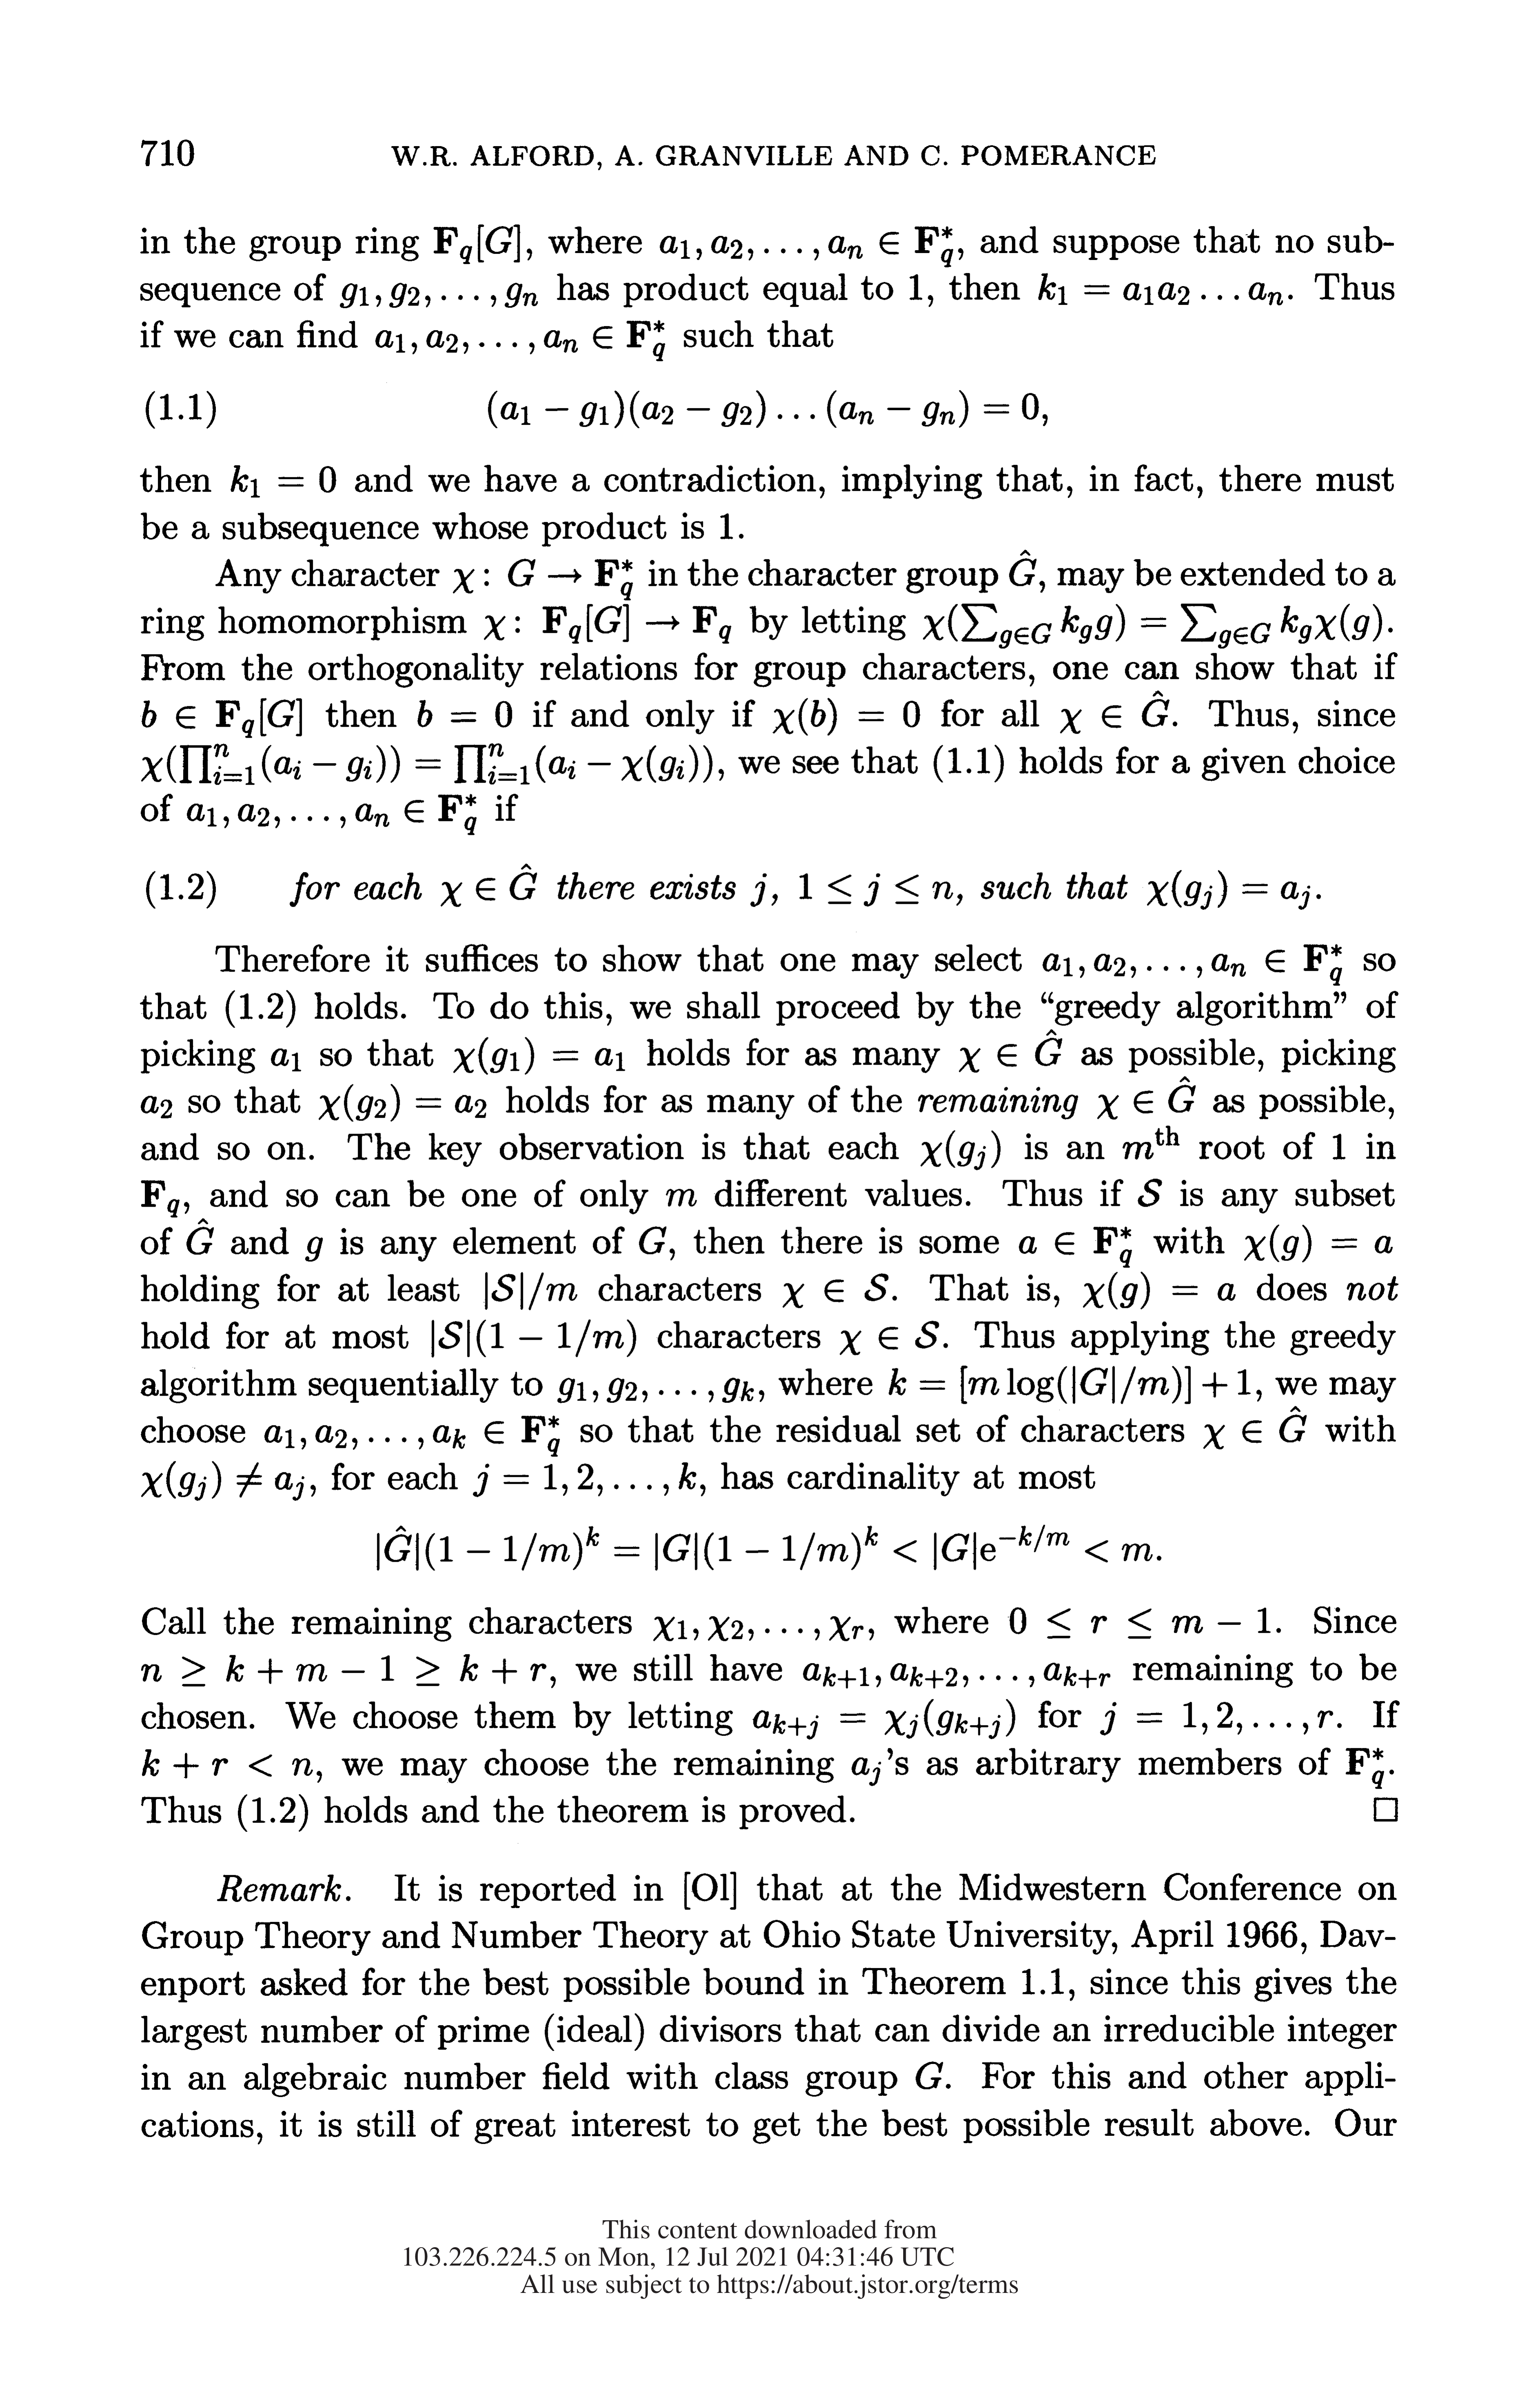maths: (377, 1525, 1152, 1571), (140, 742, 712, 785), (488, 390, 1038, 428), (923, 604, 1382, 648), (889, 1365, 1251, 1404), (140, 1655, 545, 1687), (752, 1699, 1016, 1739), (484, 604, 731, 642), (1009, 1608, 1270, 1638), (1038, 274, 1282, 305), (453, 558, 633, 600), (431, 1320, 635, 1357), (453, 1037, 624, 1074), (1147, 871, 1310, 909), (140, 1462, 303, 1501), (142, 699, 302, 737), (319, 1085, 486, 1122), (1084, 1272, 1235, 1309), (1244, 1225, 1393, 1262), (774, 699, 919, 735), (1212, 944, 1342, 985), (433, 1416, 560, 1457), (828, 226, 952, 267), (544, 321, 665, 362), (1059, 690, 1170, 734), (800, 874, 952, 906), (356, 793, 475, 834), (142, 1750, 312, 1778), (1100, 1702, 1242, 1736), (1203, 1406, 1307, 1450), (1019, 1227, 1131, 1267), (959, 1028, 1061, 1072), (474, 1464, 602, 1497), (1098, 1076, 1194, 1120), (440, 864, 537, 906), (782, 1274, 888, 1308), (484, 1272, 577, 1309), (230, 465, 335, 497), (433, 225, 519, 263), (840, 1322, 938, 1355), (921, 1130, 1000, 1171), (417, 700, 512, 727), (340, 283, 430, 307), (1123, 1125, 1179, 1160), (803, 1664, 881, 1688), (891, 1664, 968, 1688), (1044, 1662, 1110, 1688), (1345, 1748, 1384, 1788), (1009, 549, 1045, 591), (140, 1181, 179, 1218), (652, 1616, 698, 1641), (709, 1616, 752, 1641), (659, 235, 702, 260), (710, 235, 752, 260), (1042, 953, 1084, 978), (1094, 953, 1137, 978), (186, 1218, 214, 1255), (316, 1425, 358, 1450), (375, 330, 416, 355), (188, 804, 228, 828), (239, 804, 279, 828), (558, 1378, 598, 1402), (607, 1378, 647, 1402), (265, 1425, 305, 1450), (426, 330, 468, 353), (751, 874, 777, 906), (830, 1616, 863, 1641), (852, 1757, 881, 1785), (505, 283, 537, 307), (723, 1378, 754, 1402), (638, 1227, 667, 1253), (140, 1095, 172, 1118), (916, 2062, 942, 2089), (270, 1048, 300, 1071), (479, 342, 533, 355), (291, 816, 346, 828), (1147, 965, 1201, 978), (659, 1390, 714, 1402), (368, 1437, 423, 1450), (1138, 1179, 1161, 1208), (1373, 1797, 1398, 1822), (614, 1485, 668, 1495), (765, 1629, 819, 1639), (980, 1676, 1035, 1687), (1254, 1724, 1308, 1734), (458, 295, 496, 307), (667, 1190, 696, 1206), (679, 1462, 696, 1488), (305, 1237, 323, 1262), (781, 249, 819, 260), (1317, 1711, 1333, 1727)
